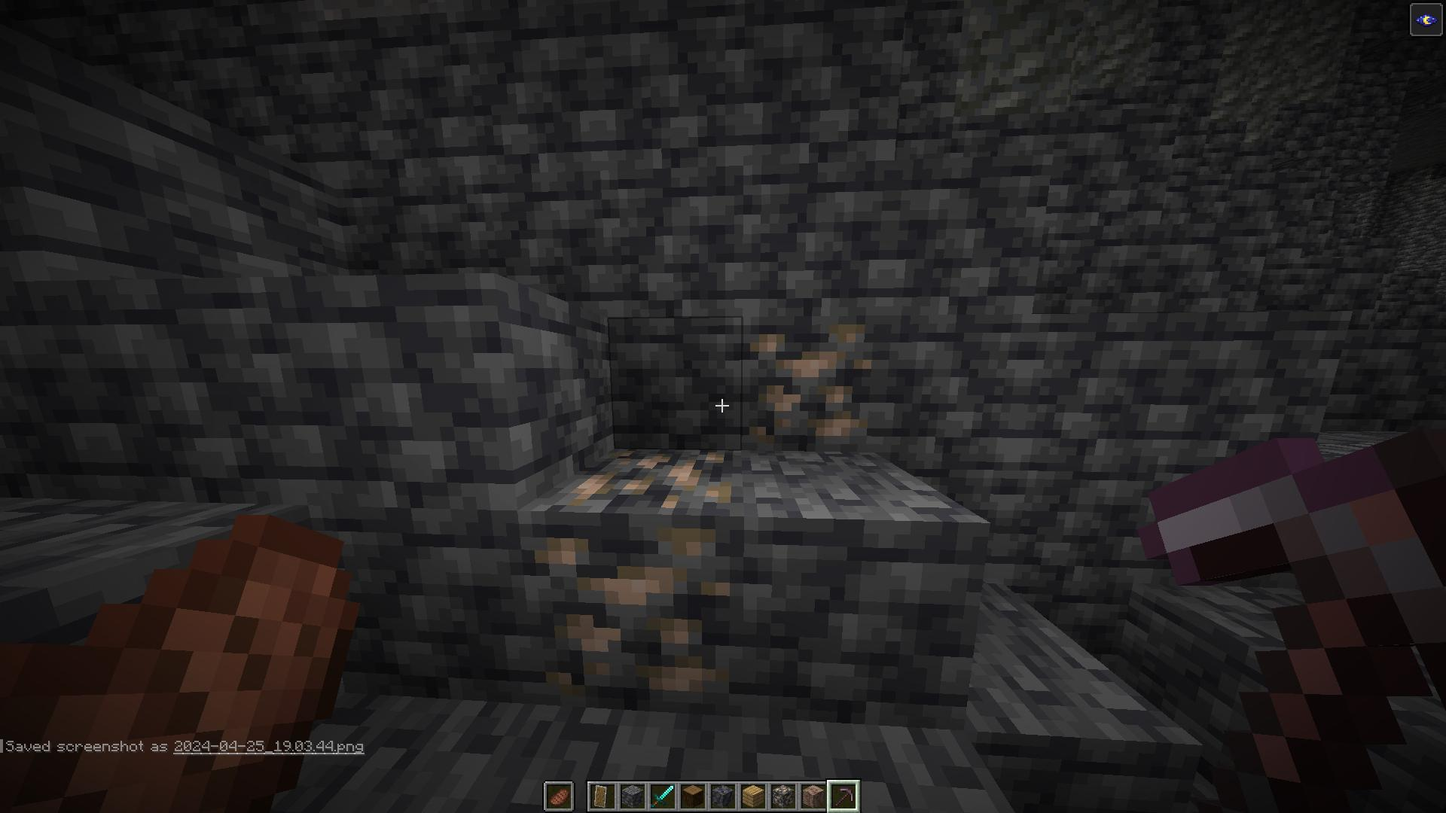iron ore: (530, 453, 733, 705), (743, 317, 871, 450)
